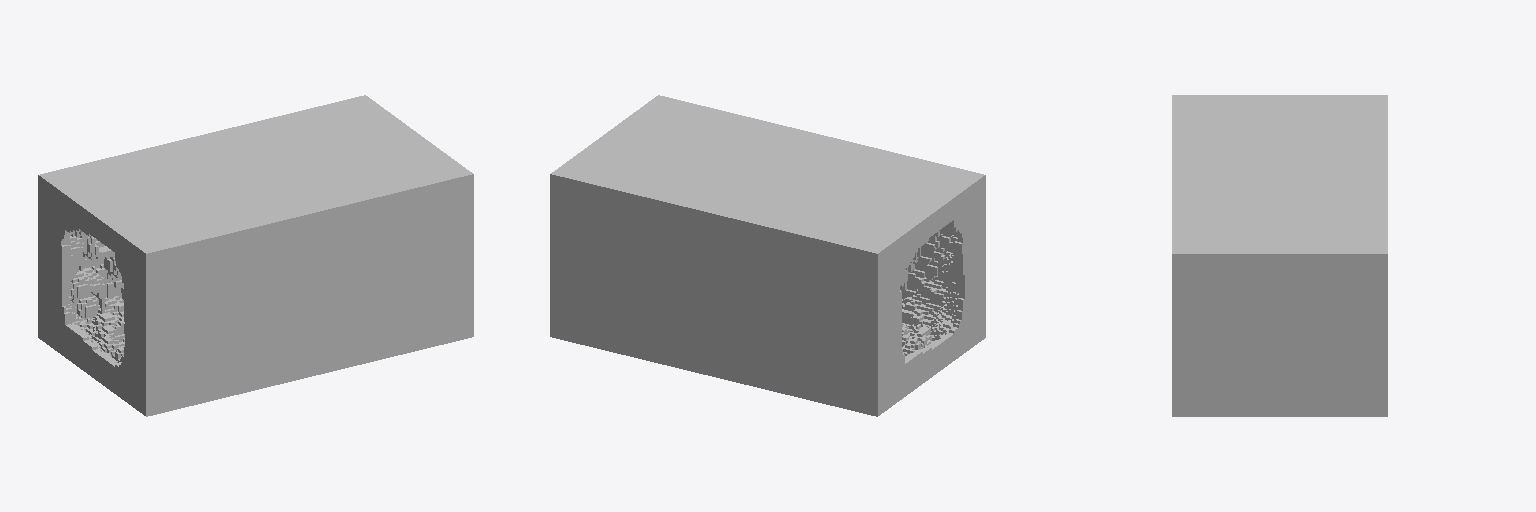
The model's file is Level 1 First Player Cube 1.obj.
3 views of the same model, side by side, from view 1: azimuth 30°, elevation 25°; view 2: azimuth 150°, elevation 25°; view 3: azimuth 270°, elevation 25° (orthographic).
Size of the model in its own units: 126 by 60 by 72.